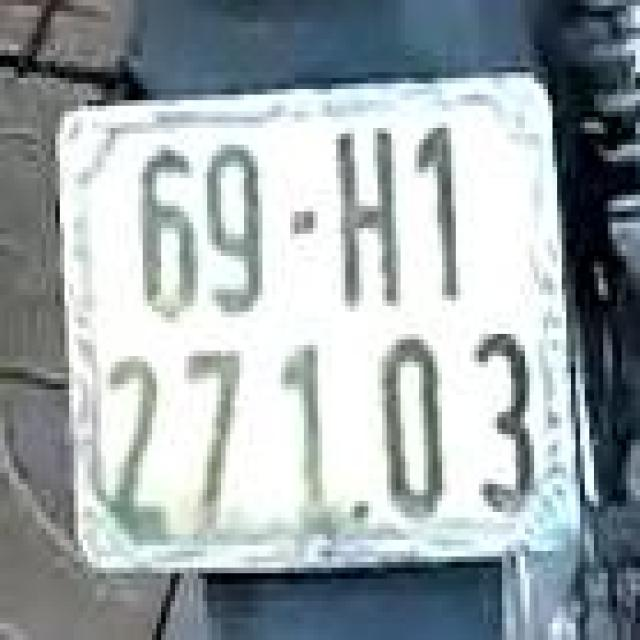0: (371, 328, 458, 534)
1: (276, 337, 346, 542), (414, 122, 479, 312)
2: (83, 342, 170, 554)
3: (468, 317, 550, 534)
6: (124, 134, 203, 328)
7: (177, 348, 251, 554)
9: (207, 134, 276, 322)
H: (324, 109, 403, 320)
